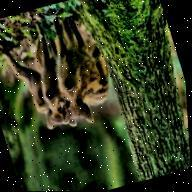boar: (34, 5, 136, 140), (18, 40, 81, 150)
